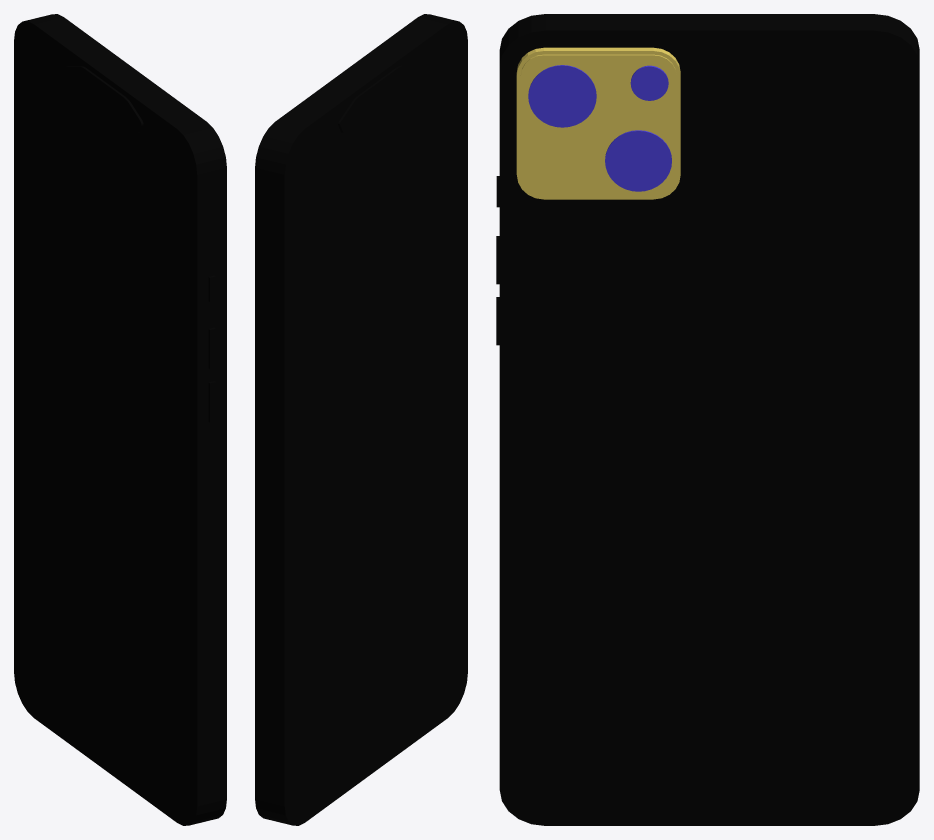
3 renders of one model, left to right at view 1: azimuth 30°, elevation 25°; view 2: azimuth 150°, elevation 25°; view 3: azimuth 270°, elevation 25°, orthographic. The views are drawn at different scales.
Visible parts, largest first — view 1: Cylinder.001; view 2: Cylinder.001; view 3: Cylinder.001.
Boxes of the visible parts, left/top/right/bottom form: Cylinder.001: left=14, top=14, right=226, bottom=825; Cylinder.001: left=255, top=14, right=467, bottom=825; Cylinder.001: left=496, top=14, right=919, bottom=825.
Size of the model in its own units: 30.33 by 486 by 234.
